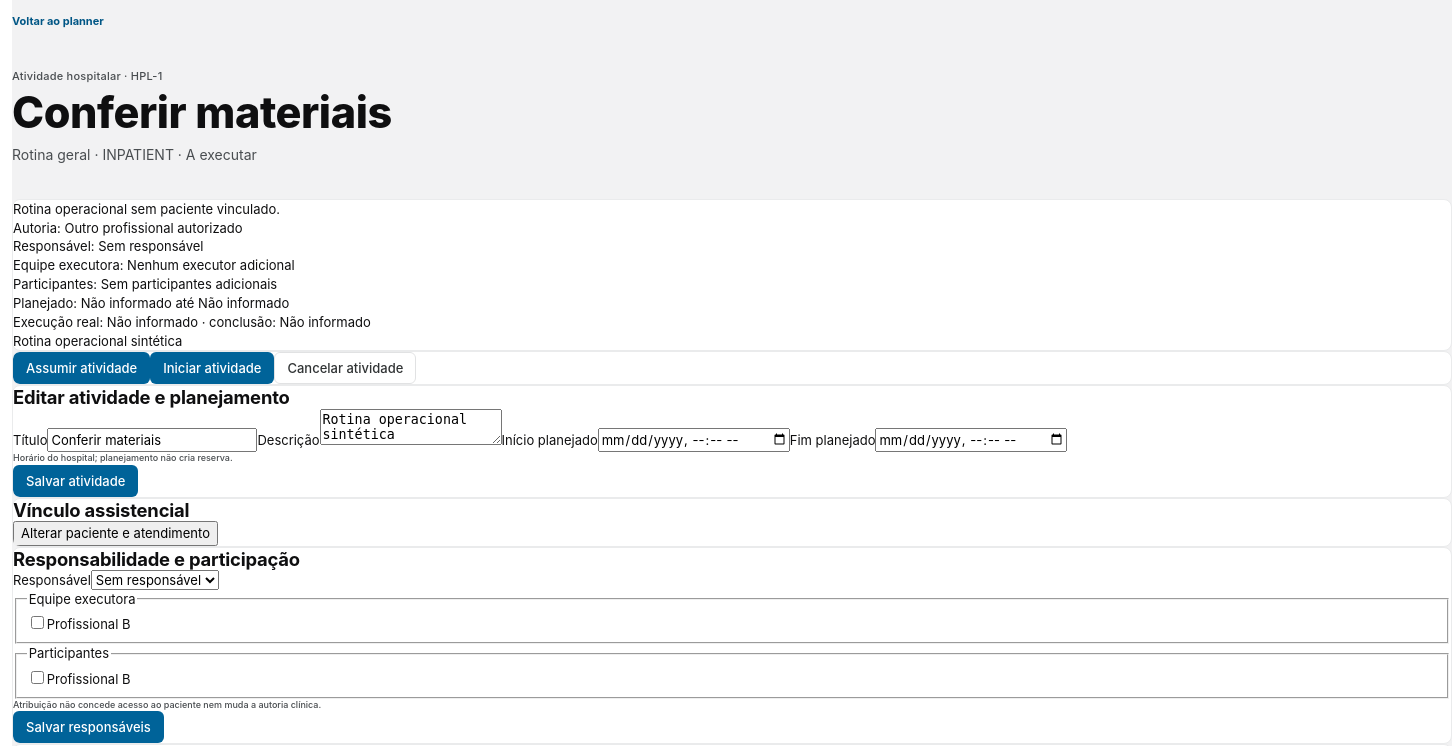
Test: requires a cancellation reason and never changes a clinical item
Click the button "Cancelar atividade" at (346, 368), box [274,352,416,384]
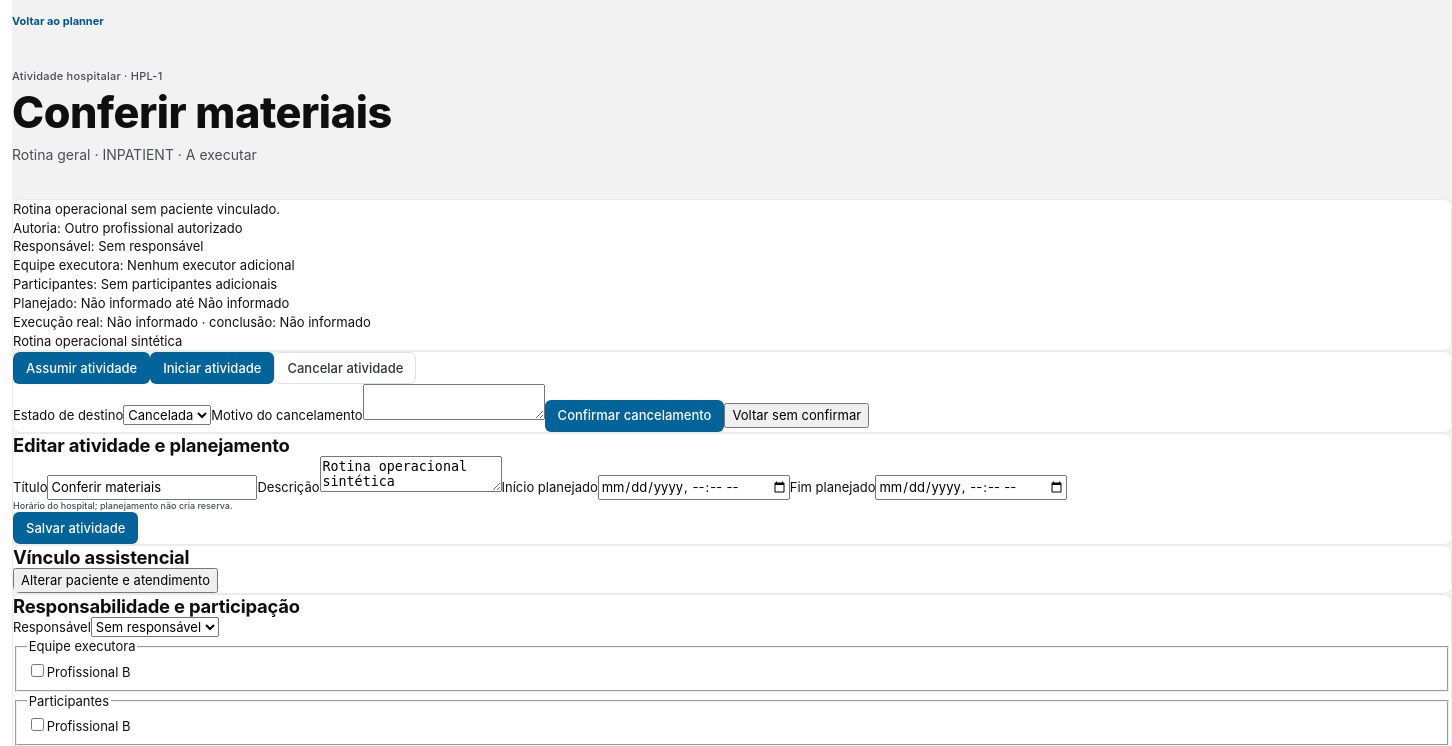
Submit the form named "Confirmar comando da atividade", box [13,384,869,432]
Type "Demanda encerrada" into the text box labelled "Motivo do cancelamento" at (454, 402), box [363,384,545,420]
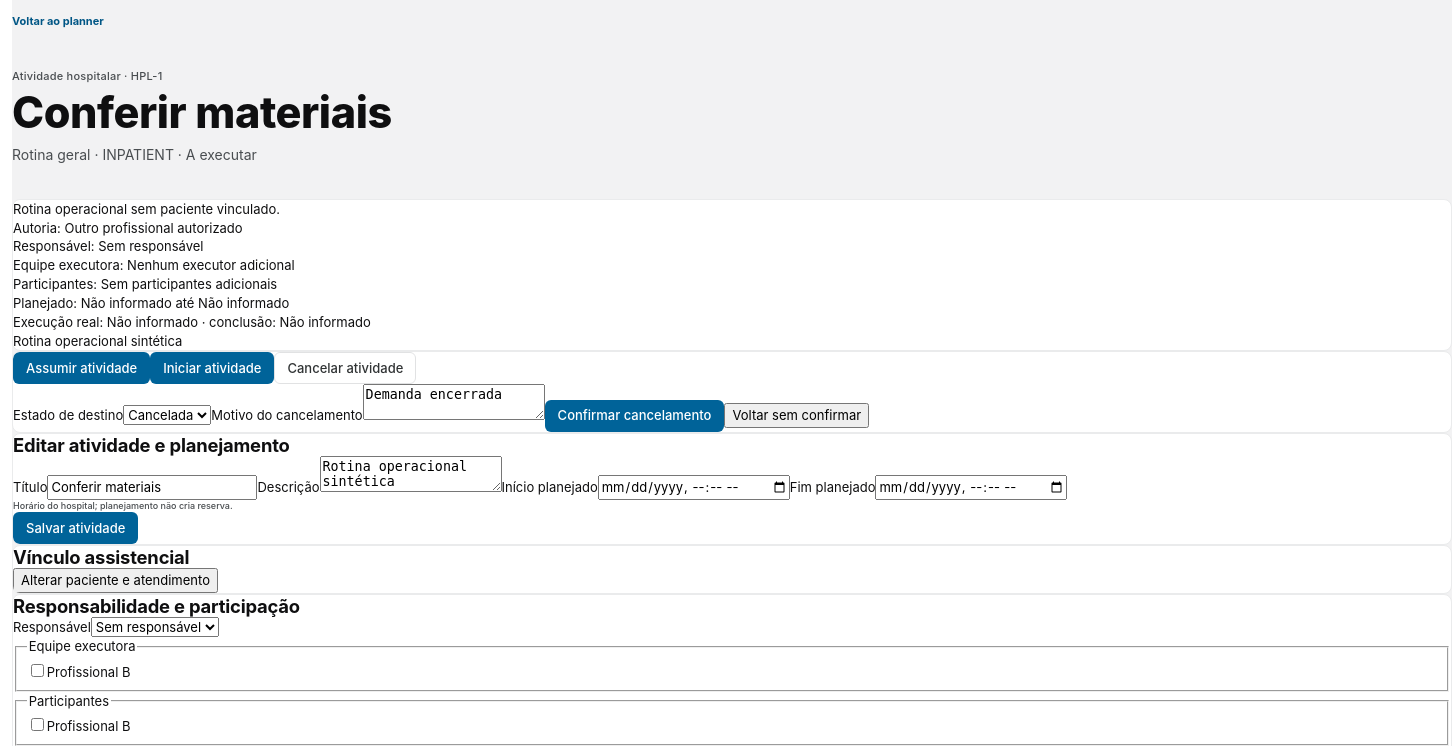
Click the button "Confirmar cancelamento" at (635, 416), box [545,400,724,432]
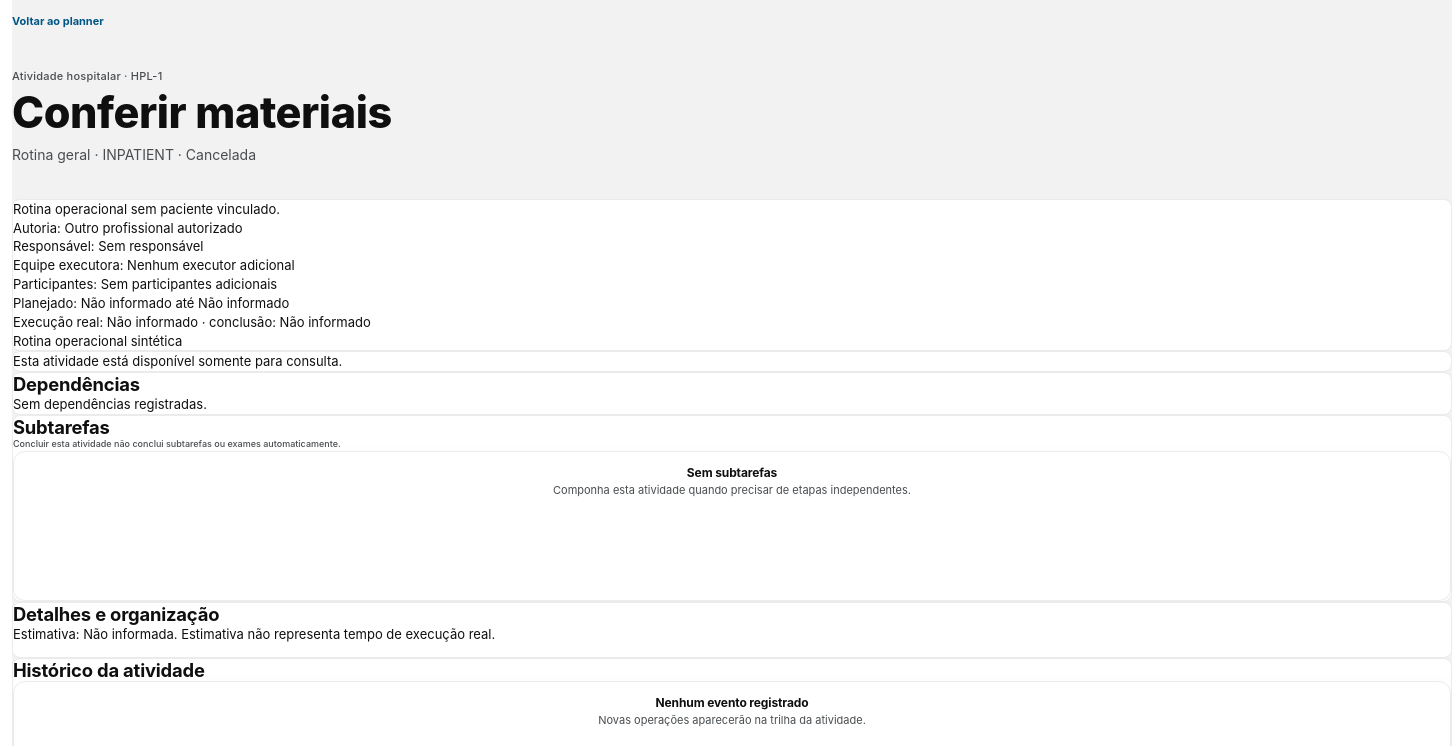
Check: the text "Esta atividade está disponível somente para consulta." is shown, box [13,353,342,369]
